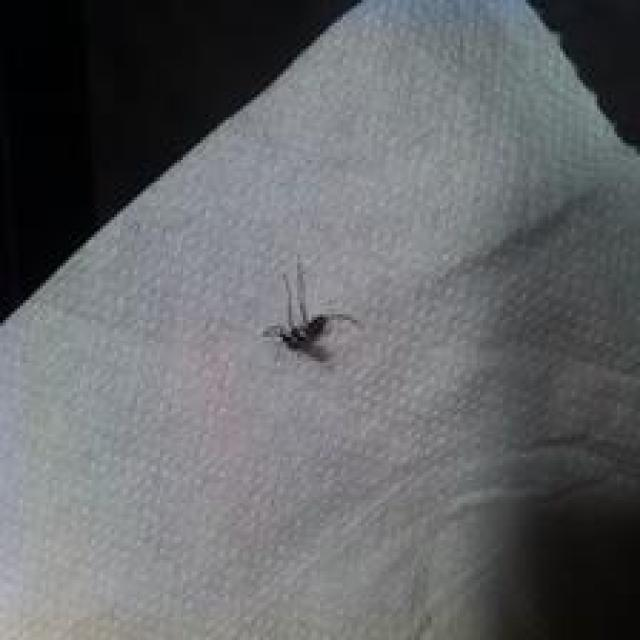Aedes albopictus: (260, 253, 360, 364)
